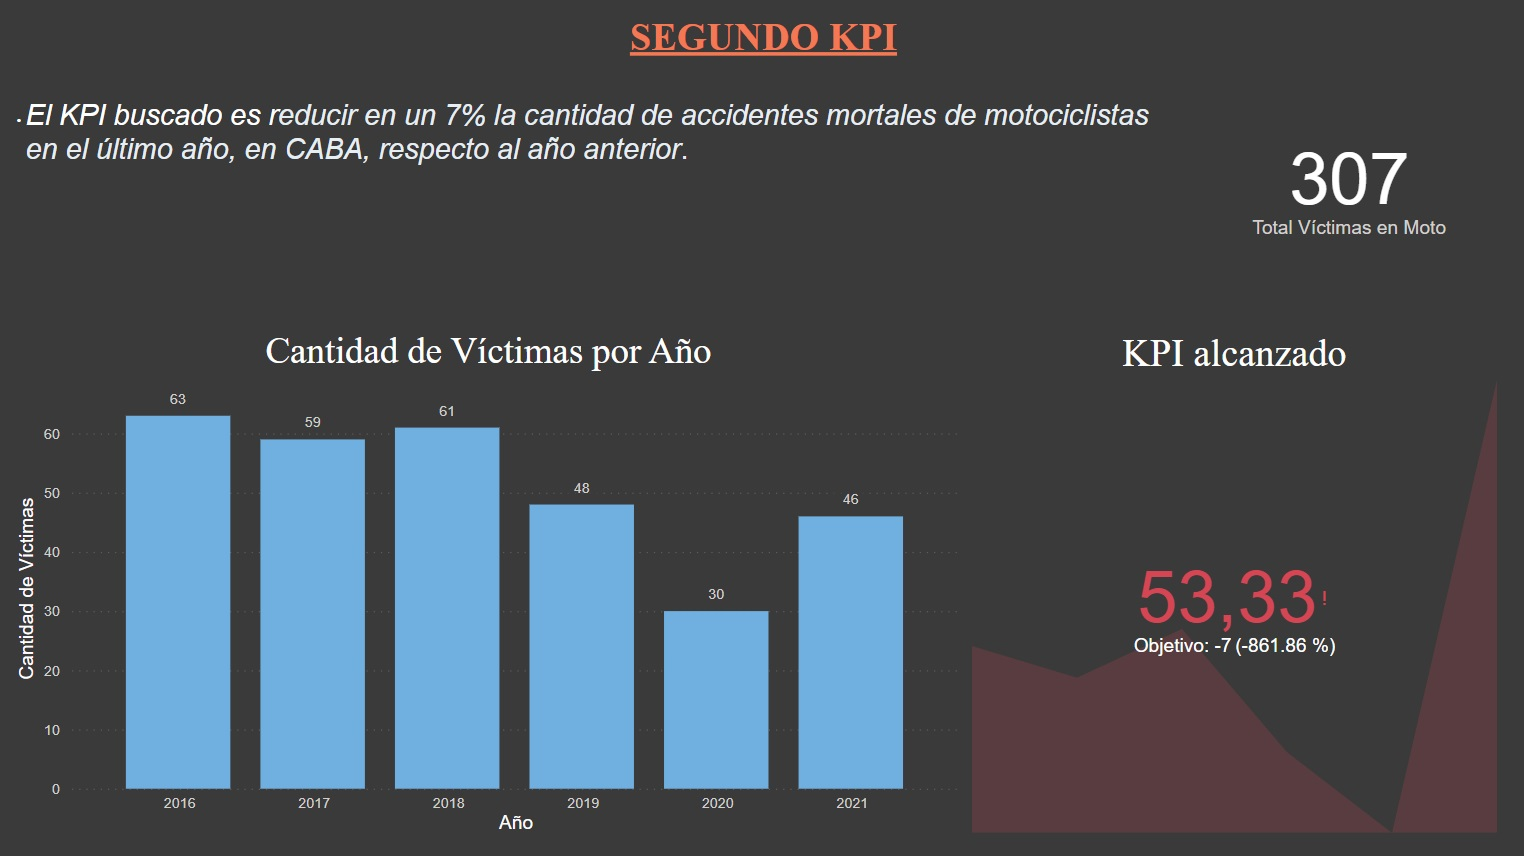

The dashboard page shown, as its layout file describes it:
{"tool":"powerbi","page":{"name":"KPI_2","canvas":[1280,720],"ordinal":4},"visuals":[{"type":"textbox","box":[496.6,57.6,287.3,70],"z":0},{"type":"textbox","box":[77.1,152.5,900.9,95.8],"z":1000},{"type":"lineClusteredColumnComboChart","fields":{"Y":["Sum(kpi2.N_VICTIMAS)"],"Category":["kpi2.AÑO"]},"box":[77.1,279.3,666.8,395.5],"z":2000},{"type":"kpi","title":"KPI alcanzado","fields":{"Goal":["kpi2.KPI_2"],"Indicator":["Median(kpi2.VARIACION)"],"TrendLine":["kpi2.AÑO"]},"box":[743.9,279.3,454,395.5],"z":3000},{"type":"card","fields":{"Values":["Sum(kpi2.N_VICTIMAS)"]},"box":[978,127.7,219.9,120.6],"z":4000}]}

Visuals, with their boxes in screenshot pixels (x1, y1, x2, y2), scaled from the page's 1280x720 canvas onto the 1524x856 screenshot:
textbox: crop(591, 68, 933, 152)
textbox: crop(92, 181, 1164, 295)
lineClusteredColumnComboChart - Sum(kpi2.N_VICTIMAS) x kpi2.AÑO: crop(92, 332, 886, 802)
"KPI alcanzado" kpi: crop(886, 332, 1426, 802)
card - Sum(kpi2.N_VICTIMAS): crop(1164, 152, 1426, 295)
